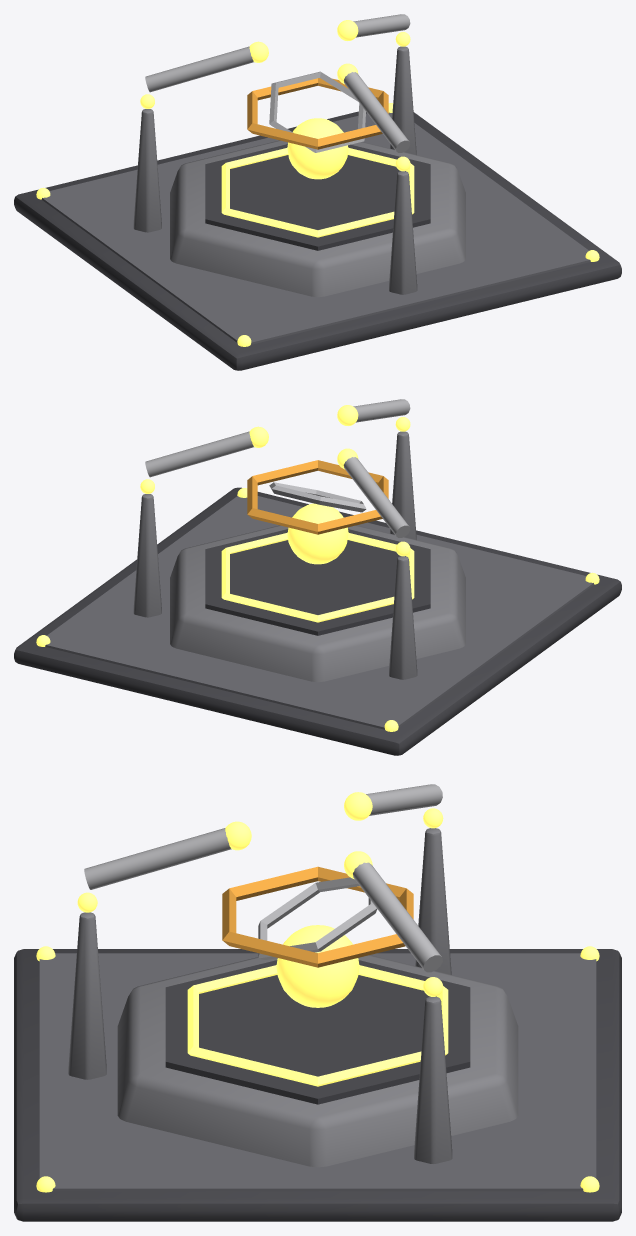
Rendered from medic_rob.glb.
The picture shows the model from 3 angles, top to bottom: view 1: azimuth 30°, elevation 25°; view 2: azimuth 150°, elevation 25°; view 3: azimuth 270°, elevation 25°; orthographic projection. The views are drawn at different scales.
Parts seen in each view (by area): view 1: medic_rob, spin_m; view 2: medic_rob, spin_m; view 3: medic_rob, spin_m.
Boxes of the visible parts, bbox=[...] form: medic_rob: bbox=[14, 14, 621, 370]; spin_m: bbox=[247, 71, 388, 152]; medic_rob: bbox=[14, 399, 621, 755]; spin_m: bbox=[247, 460, 388, 534]; medic_rob: bbox=[14, 784, 621, 1221]; spin_m: bbox=[222, 866, 413, 967].
Size of the model in its own units: 1.9 by 0.945 by 1.9.
